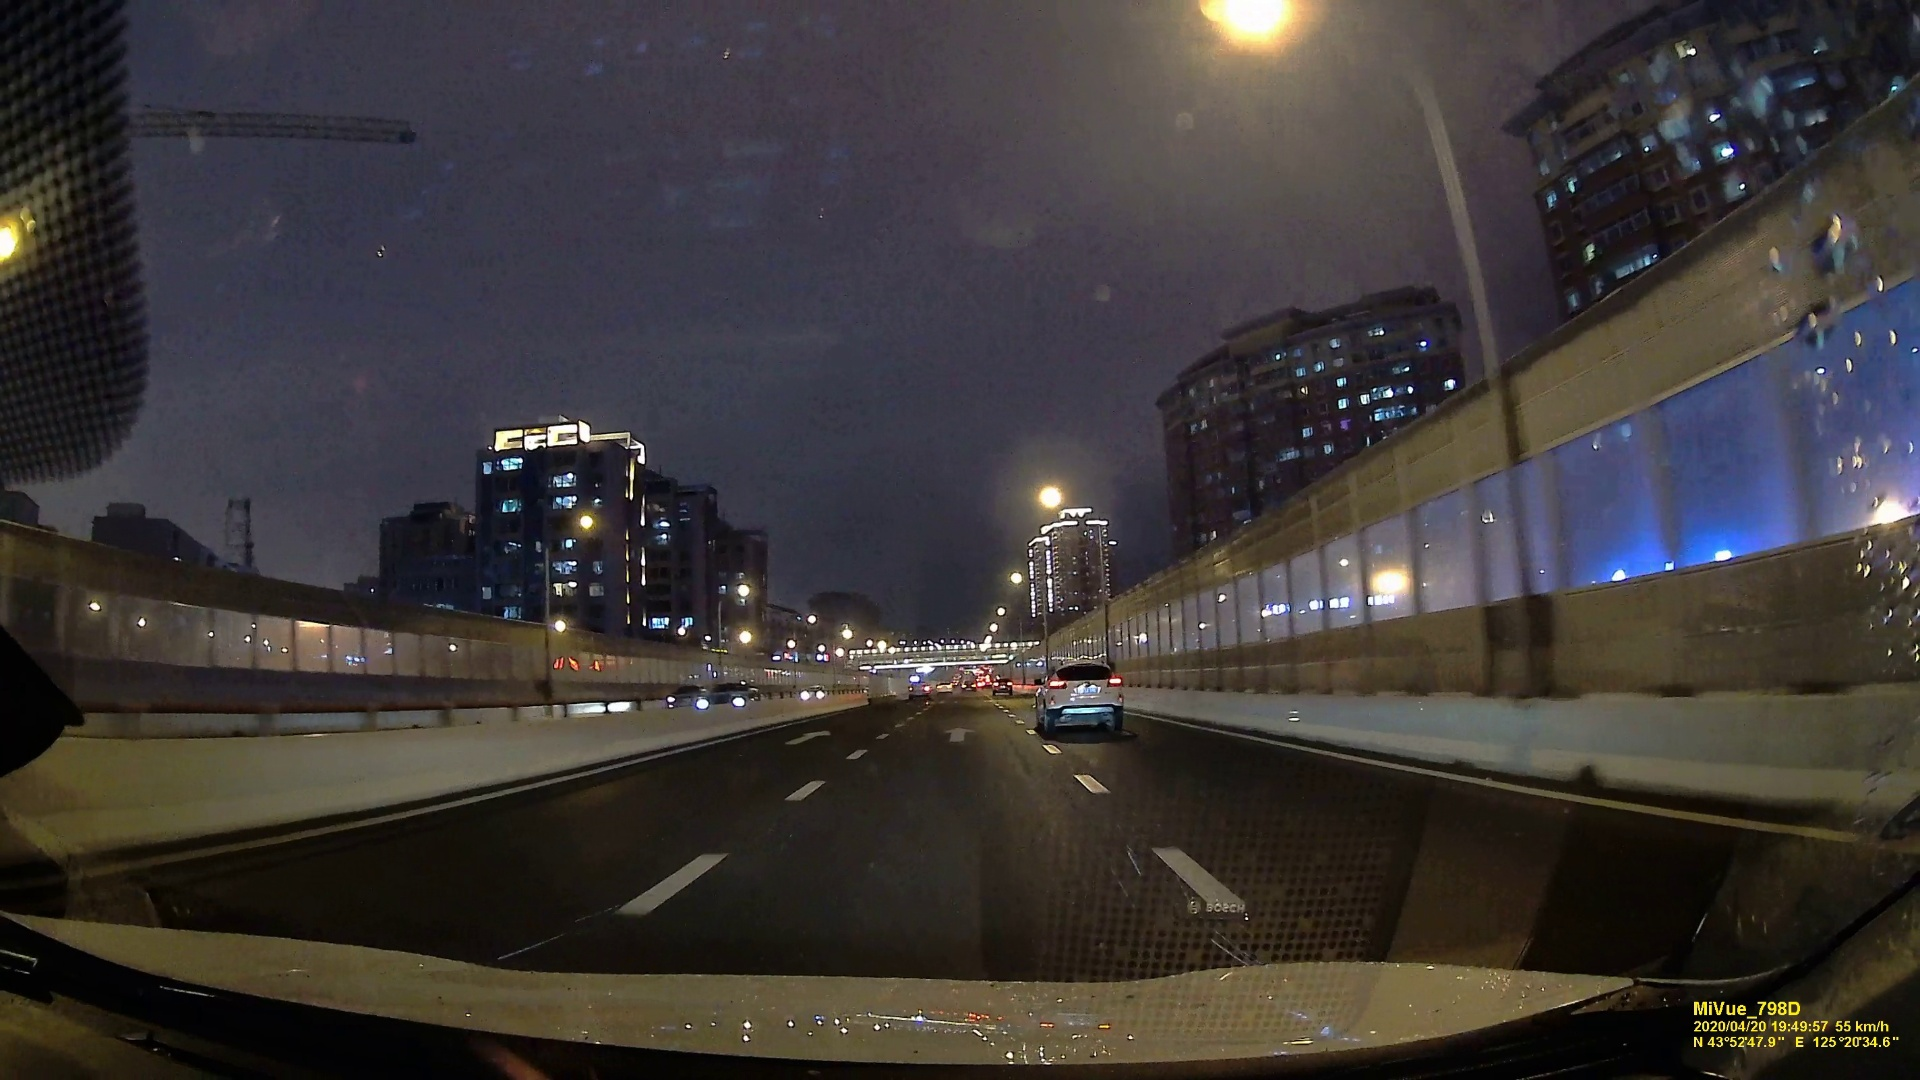vehicle: (1035, 659, 1127, 736), (695, 680, 757, 708), (907, 680, 931, 700), (992, 678, 1014, 694)
